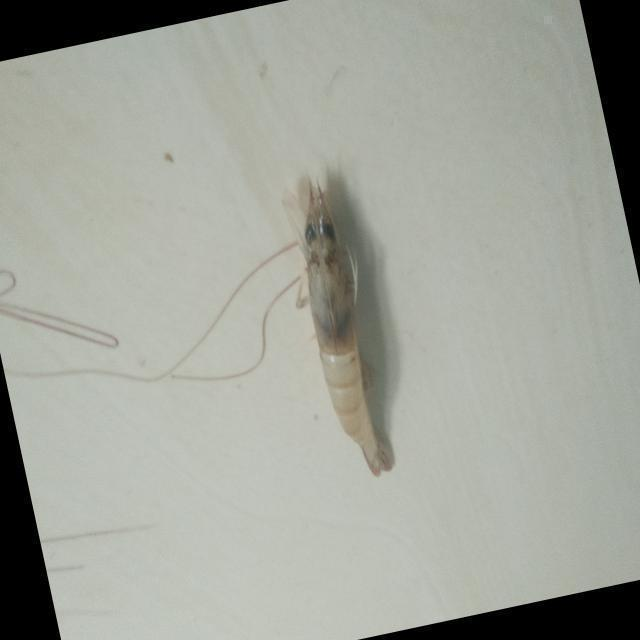shrimp: (304, 172, 394, 477)
